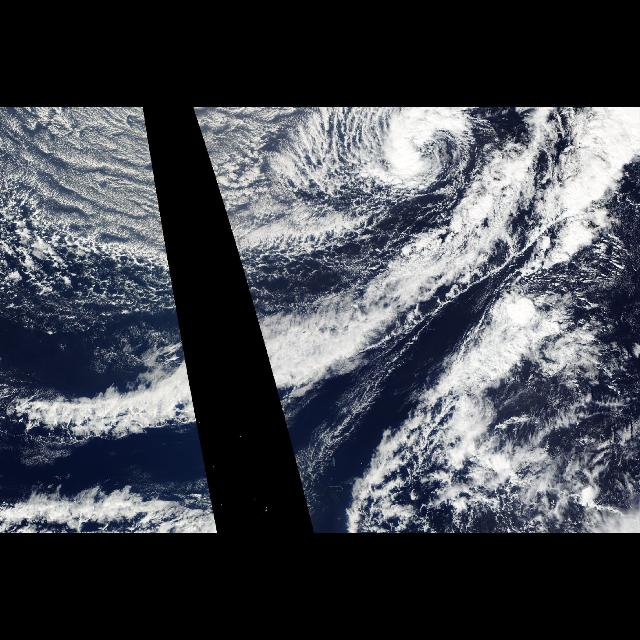Fish: (0, 354, 202, 438)
Gravel: (1, 249, 180, 321), (238, 238, 394, 298)
Sugar: (3, 109, 173, 278), (193, 107, 353, 277)
